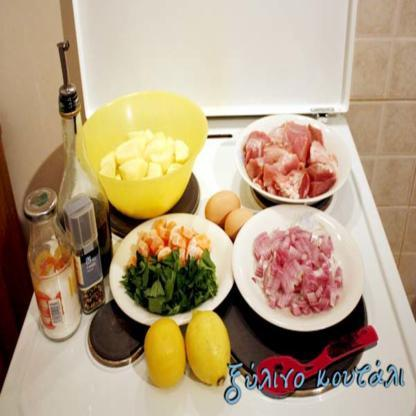lemon: (185, 309, 230, 387), (143, 316, 186, 389)
